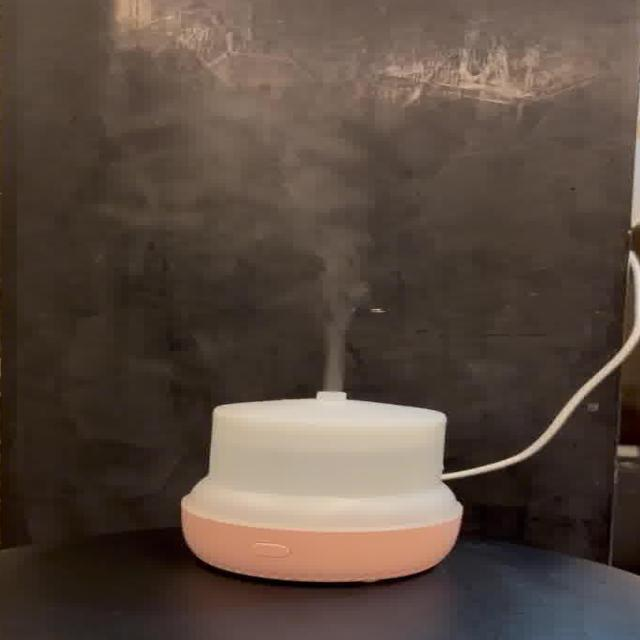fire: (175, 112, 372, 388)
